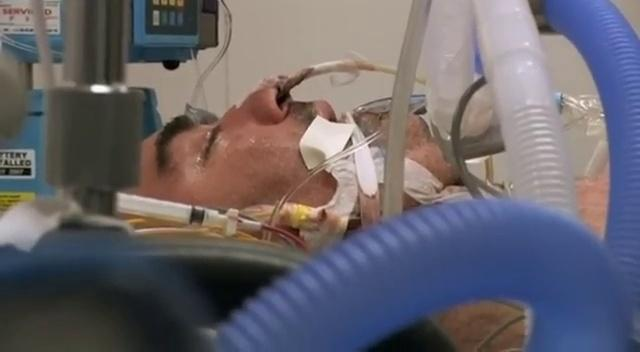patient: (132, 59, 383, 249)
